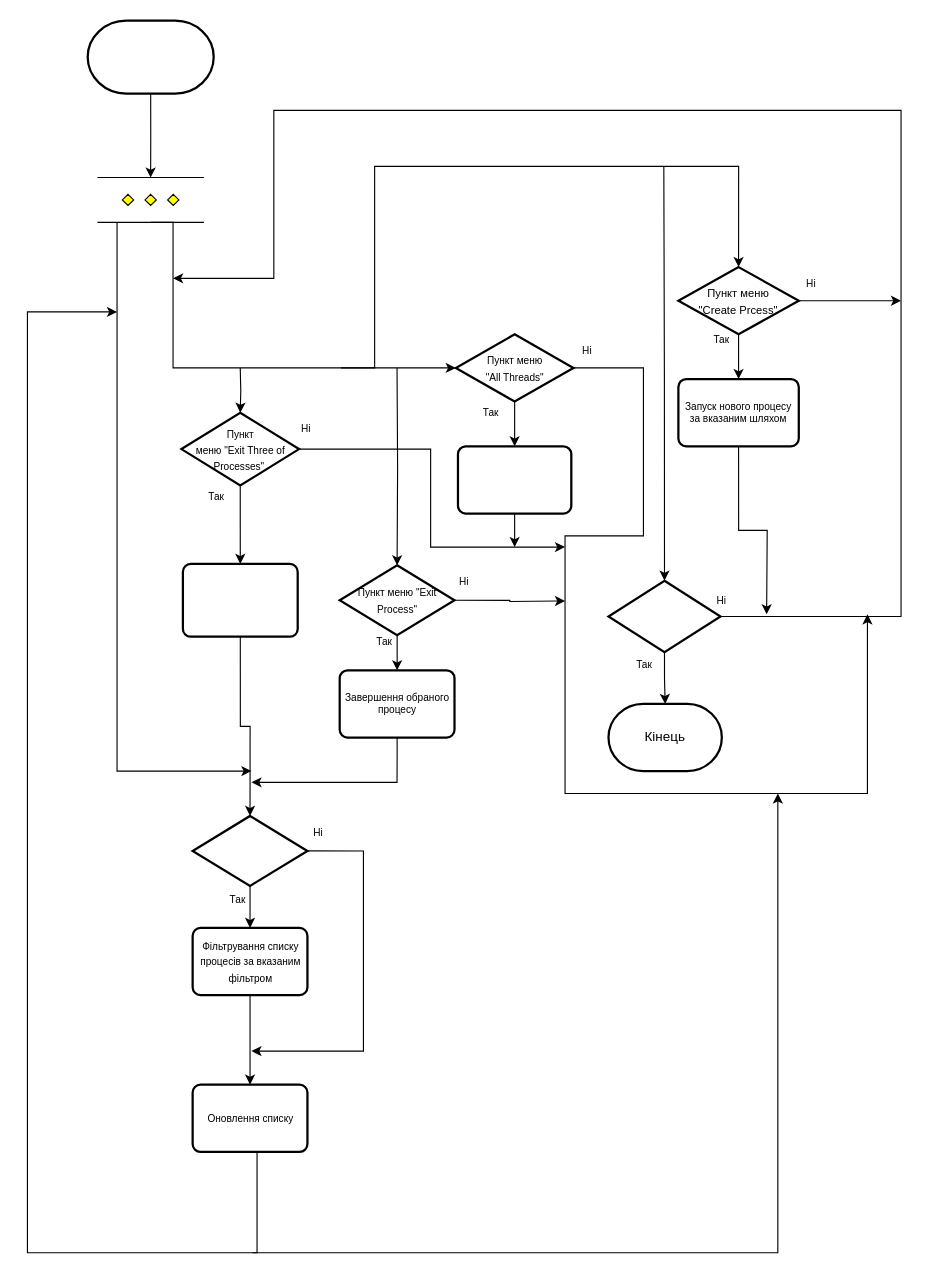
This 930x1281 diagram has some shape labels left out. The shapes that lost their labels are listed below. From the top down, each one's box as (x1, y1, x2, y2) in pixels, then its label:
(86, 19, 214, 94): Початок
(456, 445, 572, 514): Виведення усіх потоків обраного процесу
(181, 562, 298, 637): Завершення дерева процесів
(607, 579, 721, 653): Натиснуто на хрестик
(191, 814, 308, 886): Вказано фільтр за назвою
